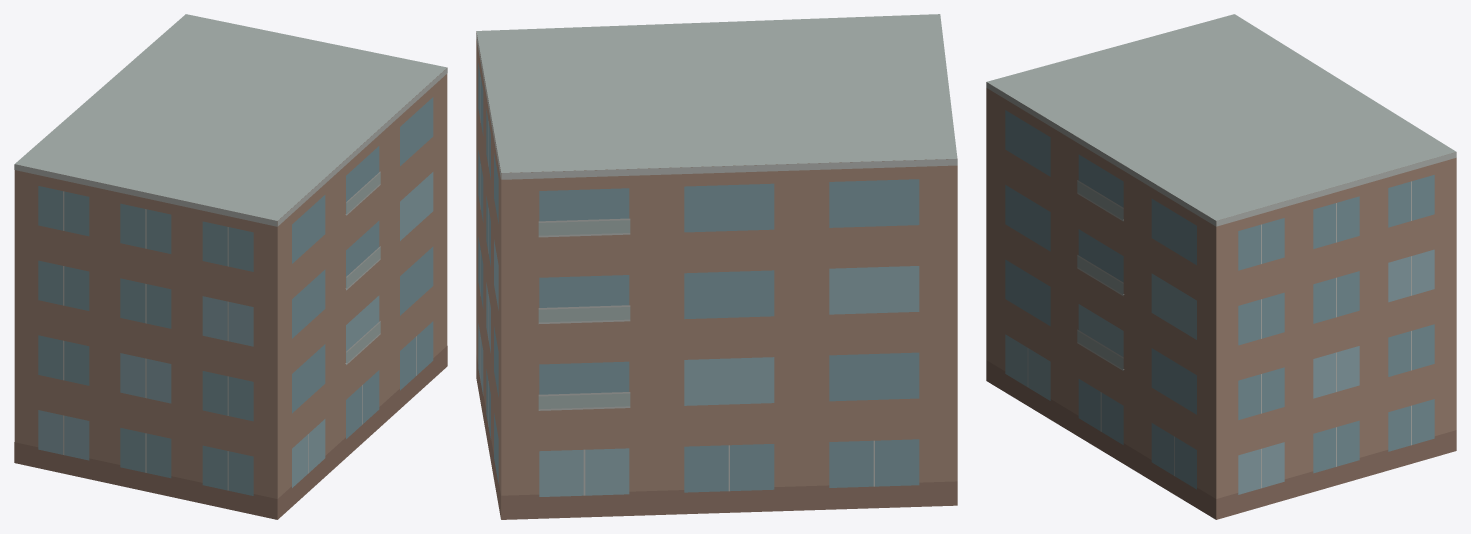
Rendered from survey-upis-32846088.glb.
The picture shows the model from 3 angles, left to right: view 1: azimuth 30°, elevation 25°; view 2: azimuth 150°, elevation 25°; view 3: azimuth 270°, elevation 25°; orthographic projection. The views are drawn at different scales.
Visible parts, largest first — view 1: survey-upis-32846088.tmp; view 2: survey-upis-32846088.tmp; view 3: survey-upis-32846088.tmp.
Part boxes in pixels (box(x1,y1,x2,y2)): survey-upis-32846088.tmp: box(14, 14, 447, 519); survey-upis-32846088.tmp: box(476, 14, 957, 519); survey-upis-32846088.tmp: box(986, 14, 1456, 519).
Bounding box in the file's own units: 18.56 × 12.5 × 17.82.
